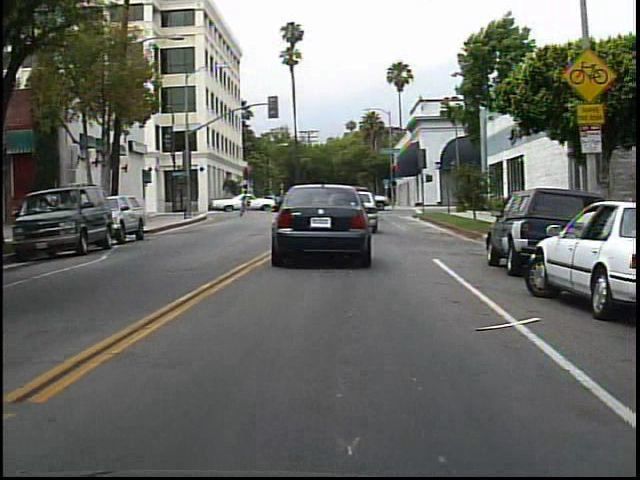person: (238, 189, 253, 218)
